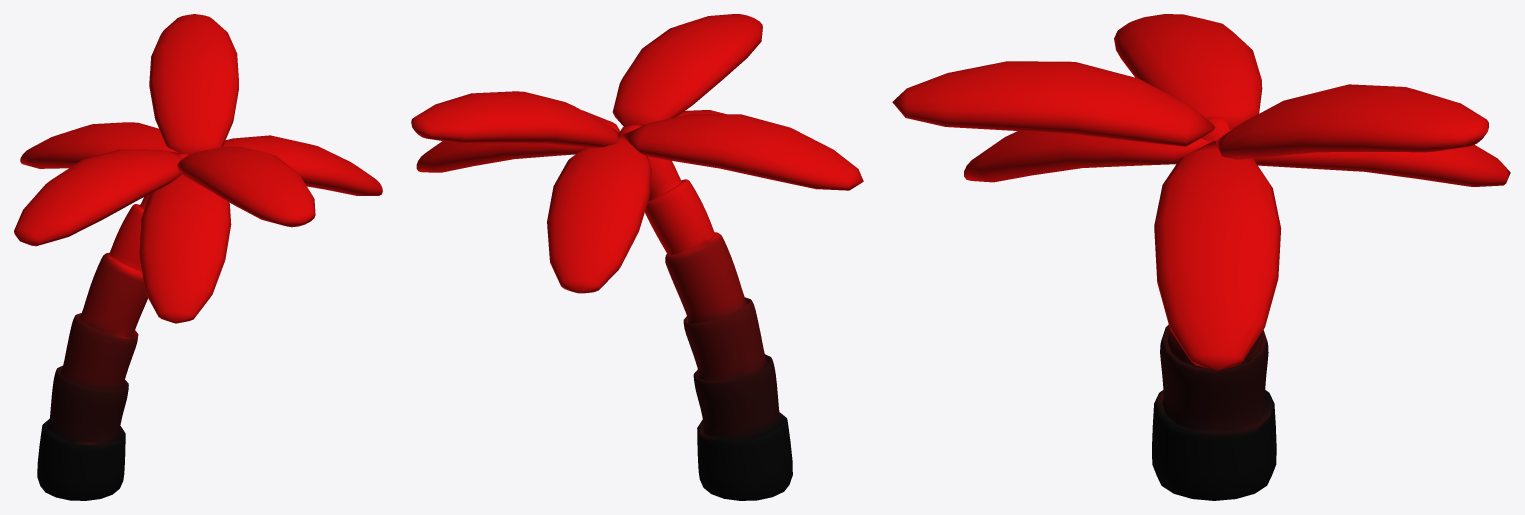
The model's file is SM_PalmTree.FBX.
3 views of the same model, side by side, from view 1: azimuth 30°, elevation 25°; view 2: azimuth 150°, elevation 25°; view 3: azimuth 270°, elevation 25° (orthographic). The views are drawn at different scales.
Visible parts, largest first — view 1: Sphere007; view 2: Sphere007; view 3: Sphere007.
Boxes of the visible parts, bbox=[...] form: Sphere007: bbox=[14, 14, 382, 500]; Sphere007: bbox=[411, 14, 863, 500]; Sphere007: bbox=[892, 14, 1510, 500].
Size of the model in its own units: 117 by 104 by 115.
